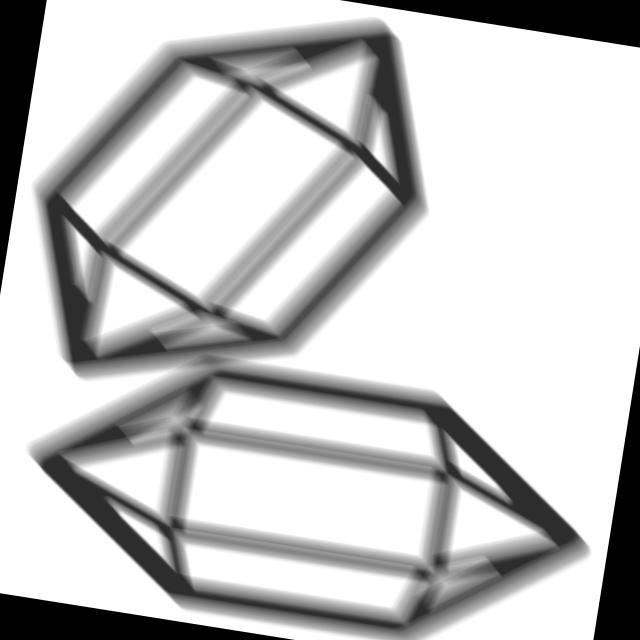crystal: (1, 1, 468, 442), (6, 319, 620, 640)
